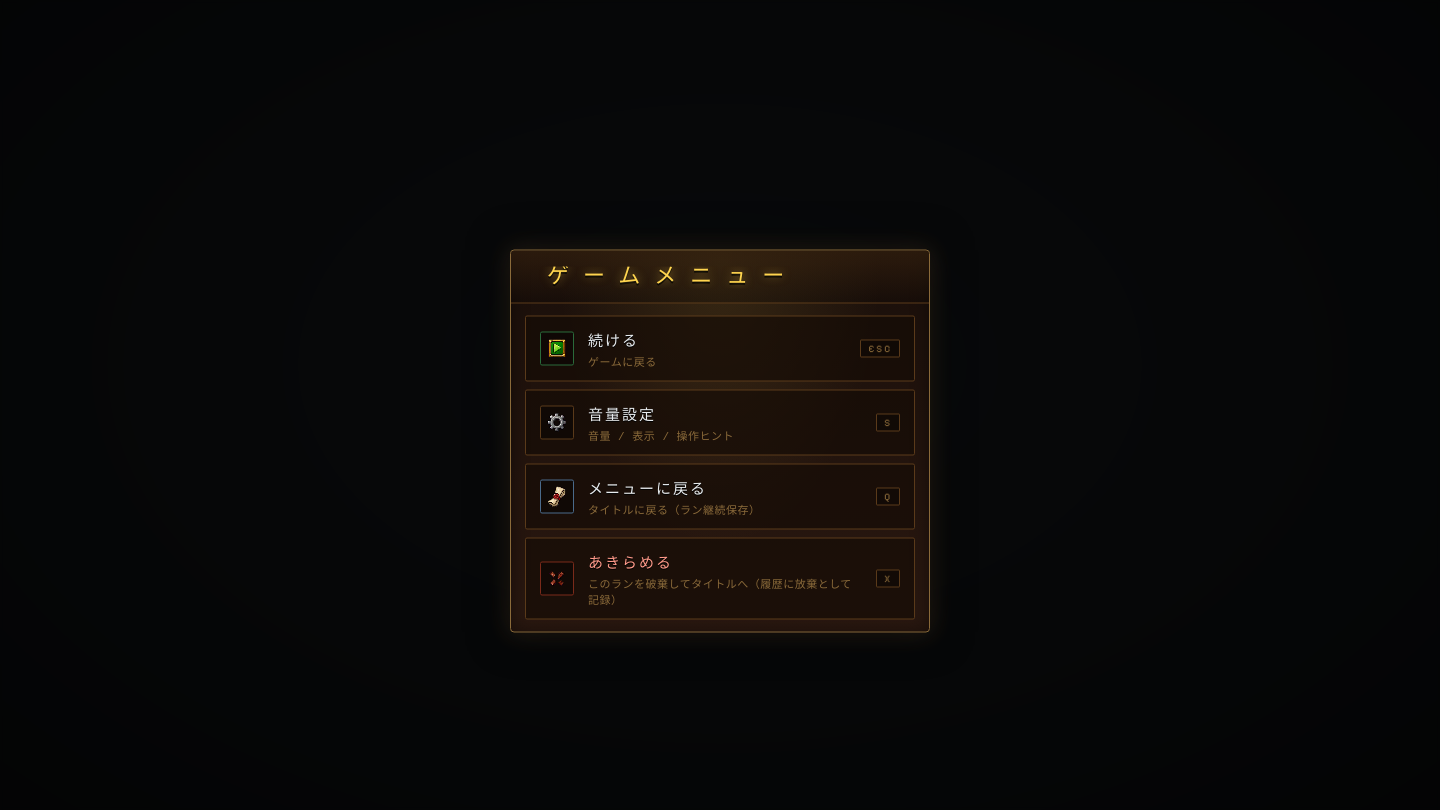
InGameMenuScreen › requireExitConfirm=true のとき メニューに戻る で警告 confirm を出す
Click the button "メニューに戻る タイトルに戻る（ラン継続保存） Q" at (557, 496), box [525,464,915,530]
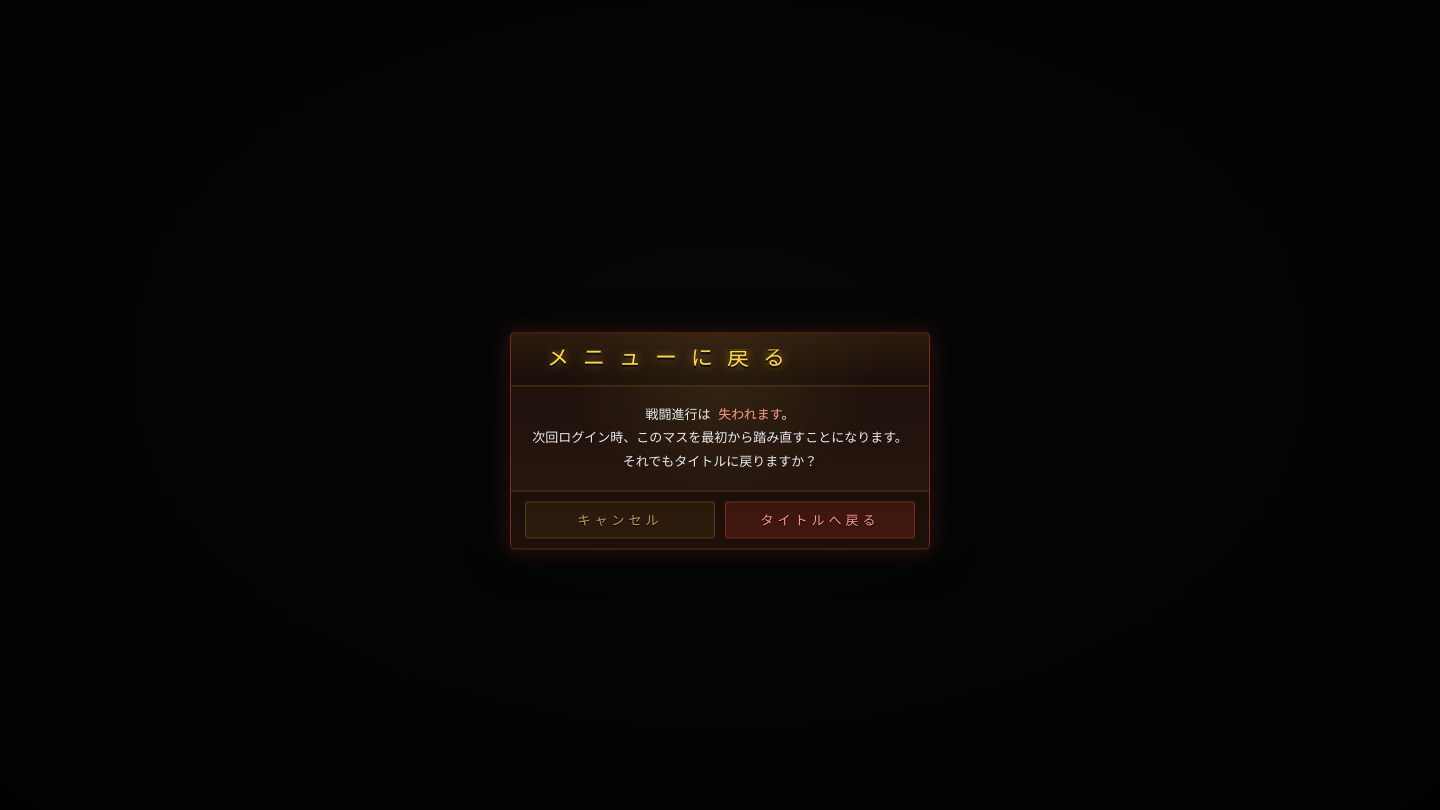
expect the text "戦闘進行は 失われます。次回ログイン時、このマスを最初から踏み直すことになります。それでもタイトルに戻りますか？" is shown: met, box [525,398,915,479]
